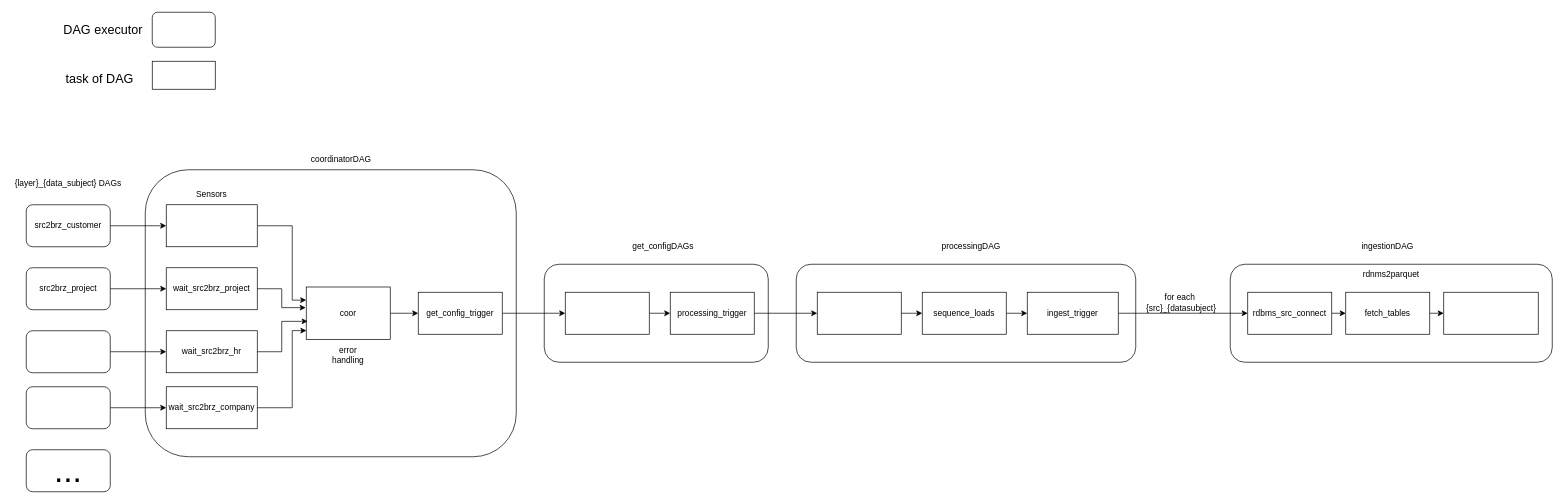
Some shapes in this 1565 by 504 pixel diagram are drawn without their labels. The centre of each missing label's shape, as x and y in pixels:
"get_config" goes at pixel 607 313.
"read_config" goes at pixel 859 313.
"src2brz_company" goes at pixel 68 407.
"src2brz_hr" goes at pixel 68 351.
"wait_src2brz_customer" goes at pixel 211 225.
"write_parquet" goes at pixel 1490 313.
